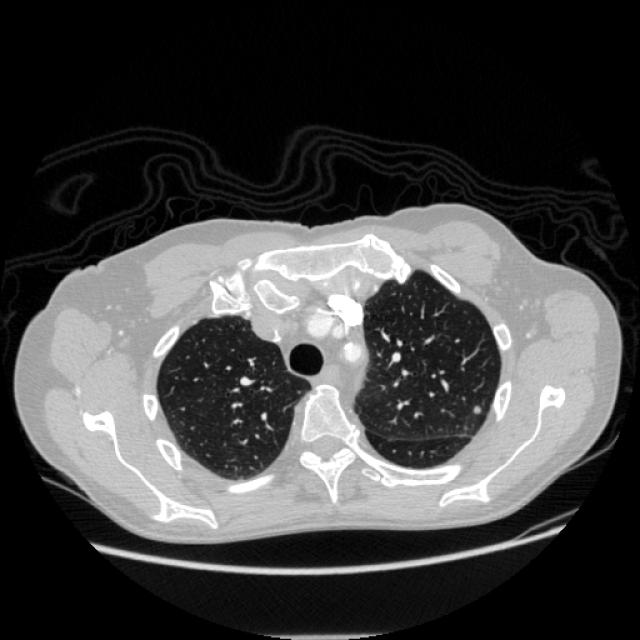nodule: (464, 398, 486, 420)
